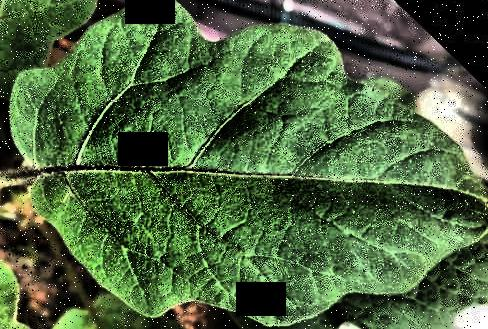HEALTHY: (0, 1, 488, 329)
